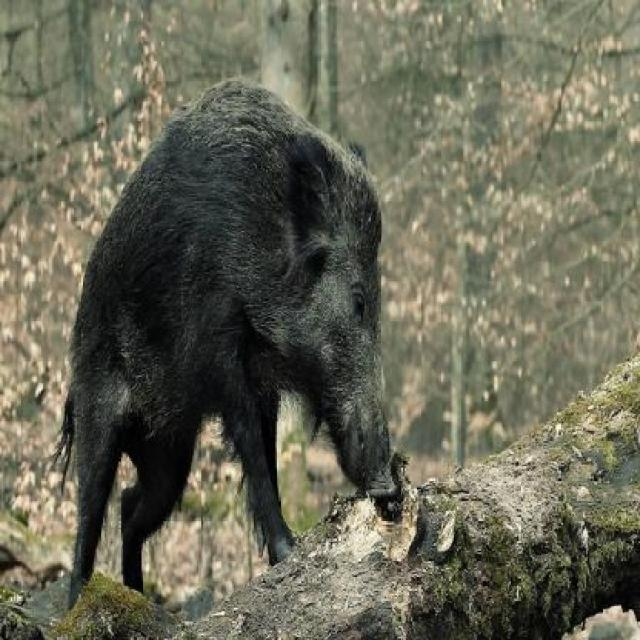wildboar: (51, 78, 409, 616)
